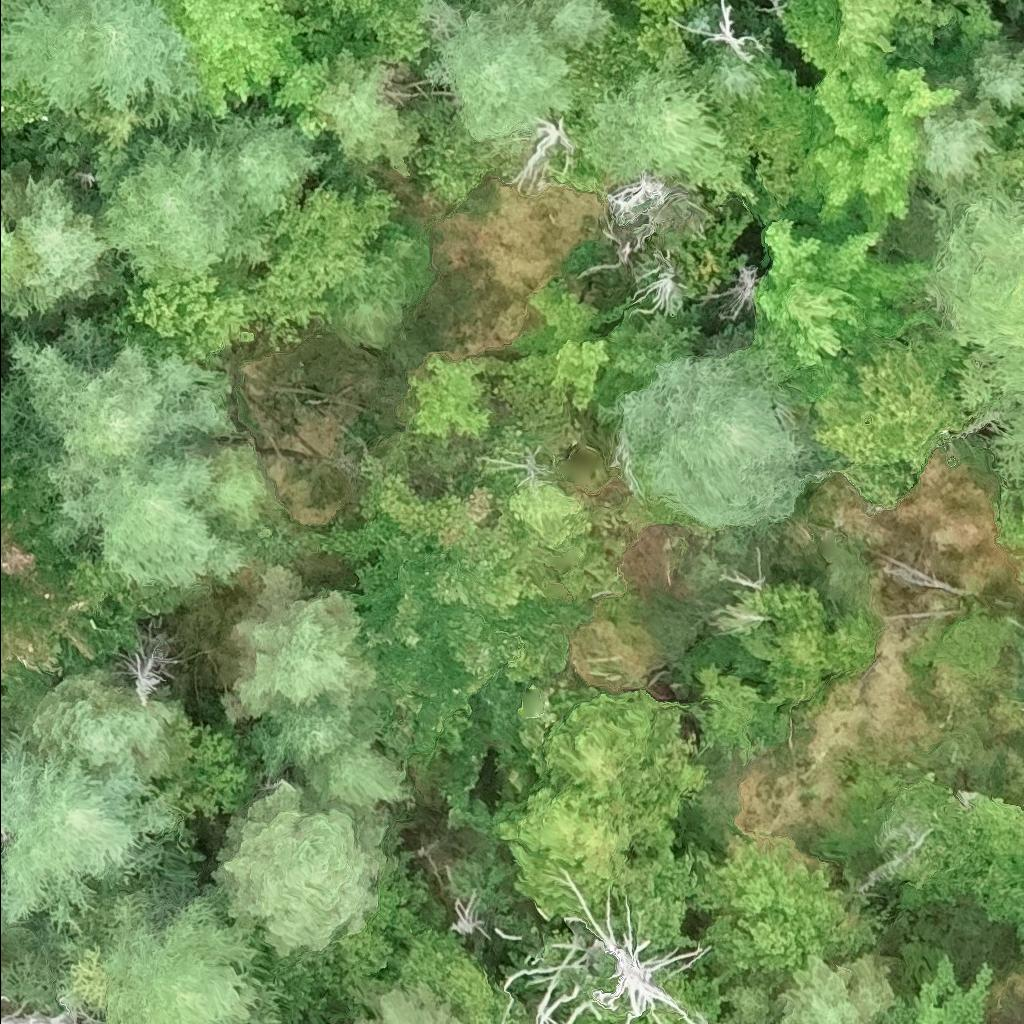crown: (352, 465, 591, 770), (16, 322, 248, 597), (797, 0, 1002, 241), (120, 189, 389, 356), (625, 356, 822, 528), (0, 721, 164, 925), (0, 444, 132, 690), (212, 782, 391, 954), (489, 787, 691, 939), (931, 190, 1023, 486), (813, 344, 974, 506), (761, 219, 937, 367), (95, 886, 283, 1023), (699, 836, 888, 970), (0, 0, 206, 119), (537, 691, 709, 827), (506, 916, 711, 1023), (423, 0, 575, 141), (228, 574, 373, 711), (98, 142, 232, 282), (151, 0, 317, 110), (718, 587, 874, 702), (583, 69, 727, 184), (207, 116, 320, 262), (36, 671, 187, 780), (928, 791, 1023, 936), (318, 46, 422, 168), (320, 234, 436, 342), (532, 289, 609, 412), (782, 950, 899, 1023), (306, 0, 431, 57), (194, 444, 269, 535), (366, 977, 462, 1023), (643, 0, 708, 57), (0, 222, 30, 312), (0, 1012, 83, 1023), (646, 1006, 687, 1023), (950, 0, 988, 11), (599, 1016, 629, 1023), (0, 385, 2, 410)
